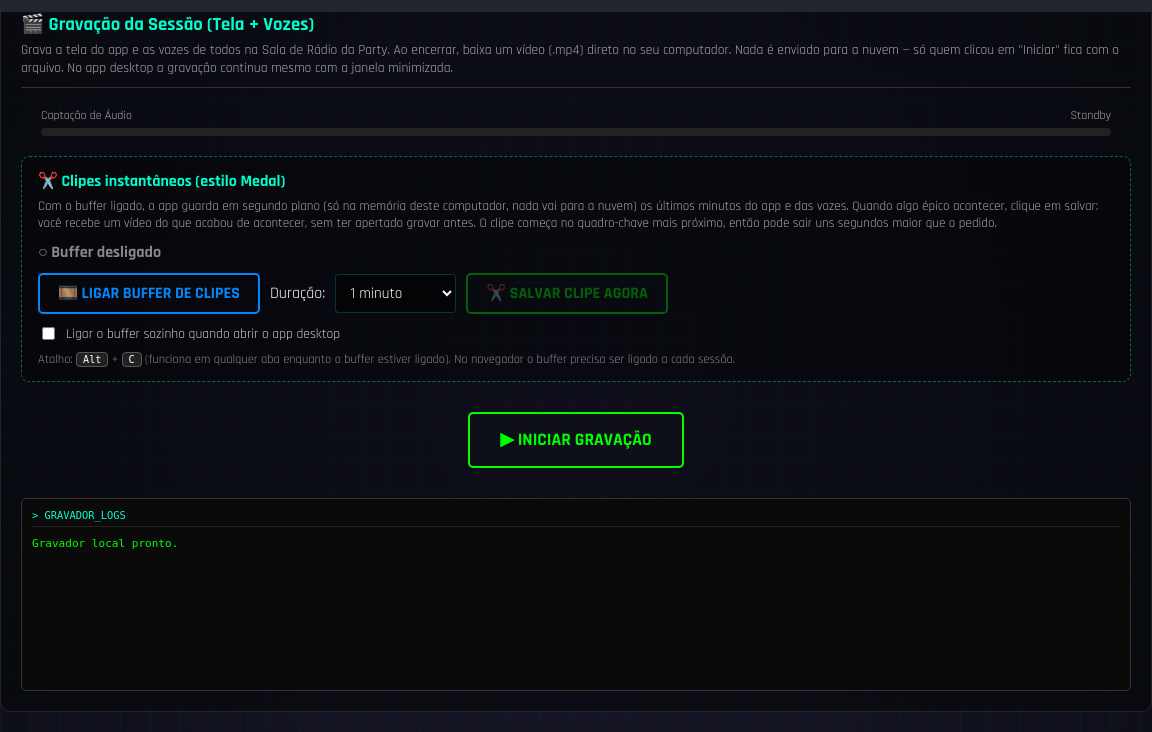
Test: GravadorPanel: Electron com captura de tela recusada › fora do Electron mostra mensagem generica
The width and height of the screenshot is (1152, 732).
(page scrolled)
Click the button "▶ INICIAR GRAVAÇÃO" at [576, 440], box [468,412,684,468]
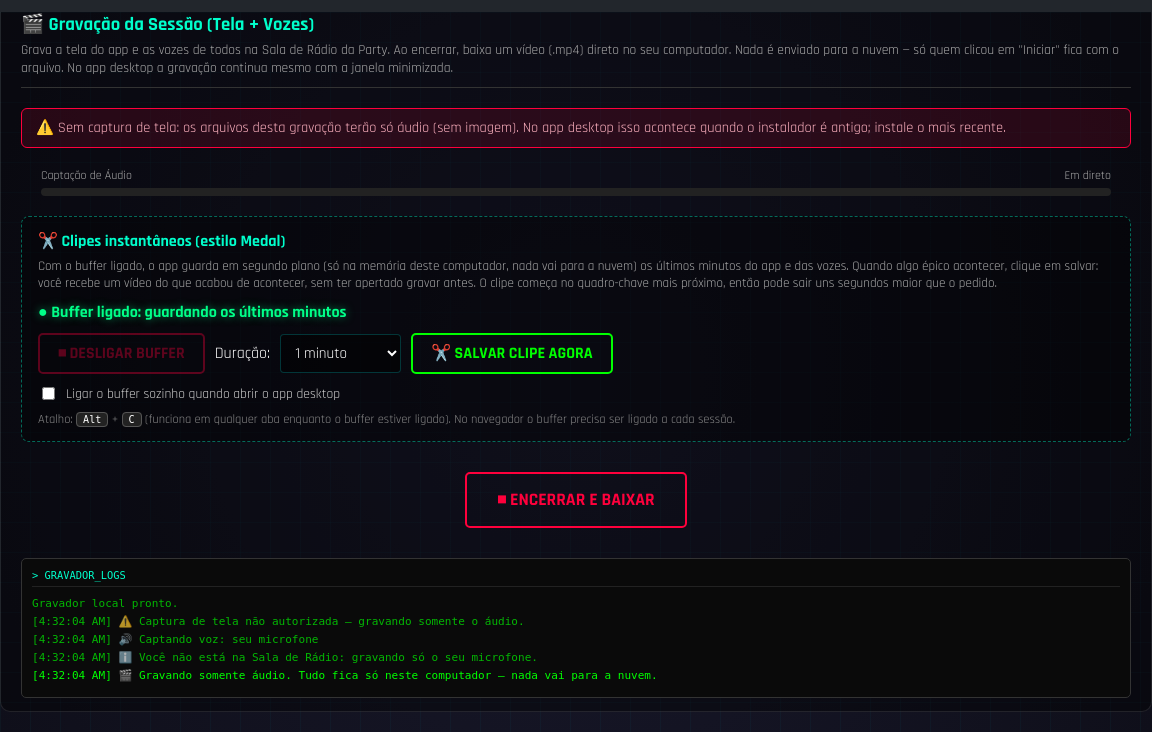
Check: the text "Captura de tela não autorizada" is shown, box [32,615,525,628]
